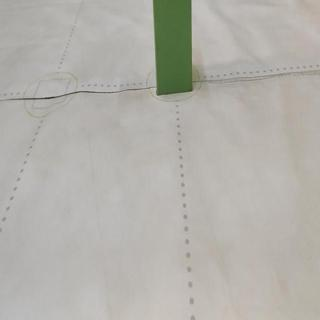greenbox: (153, 1, 198, 99)
